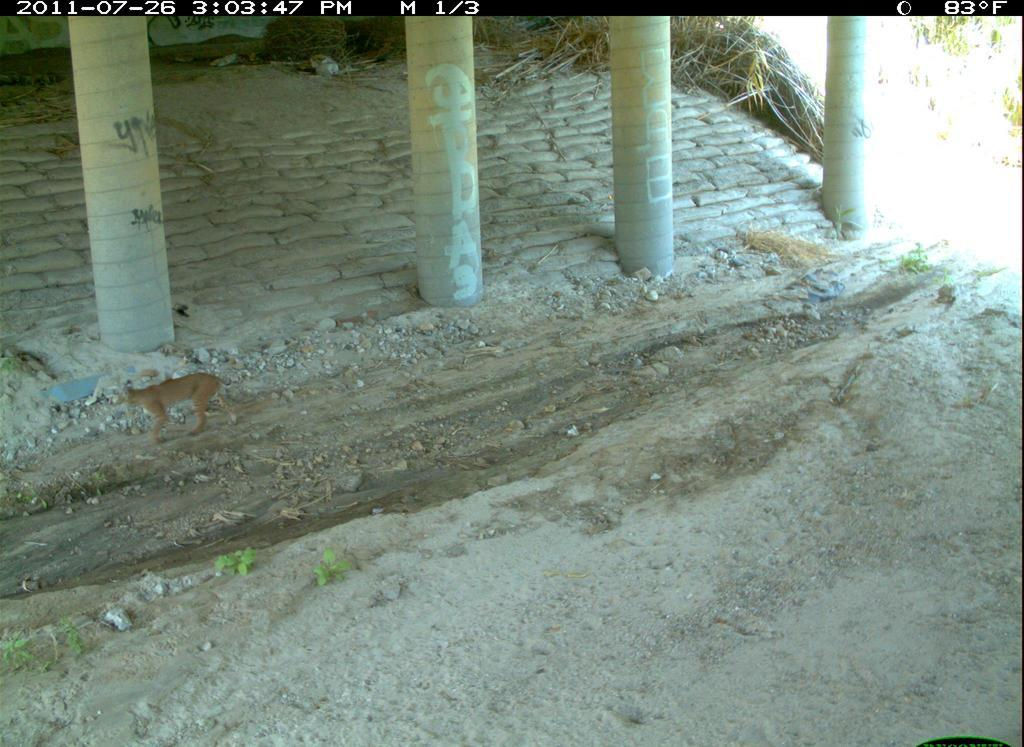bobcat: (213, 733, 485, 747)
